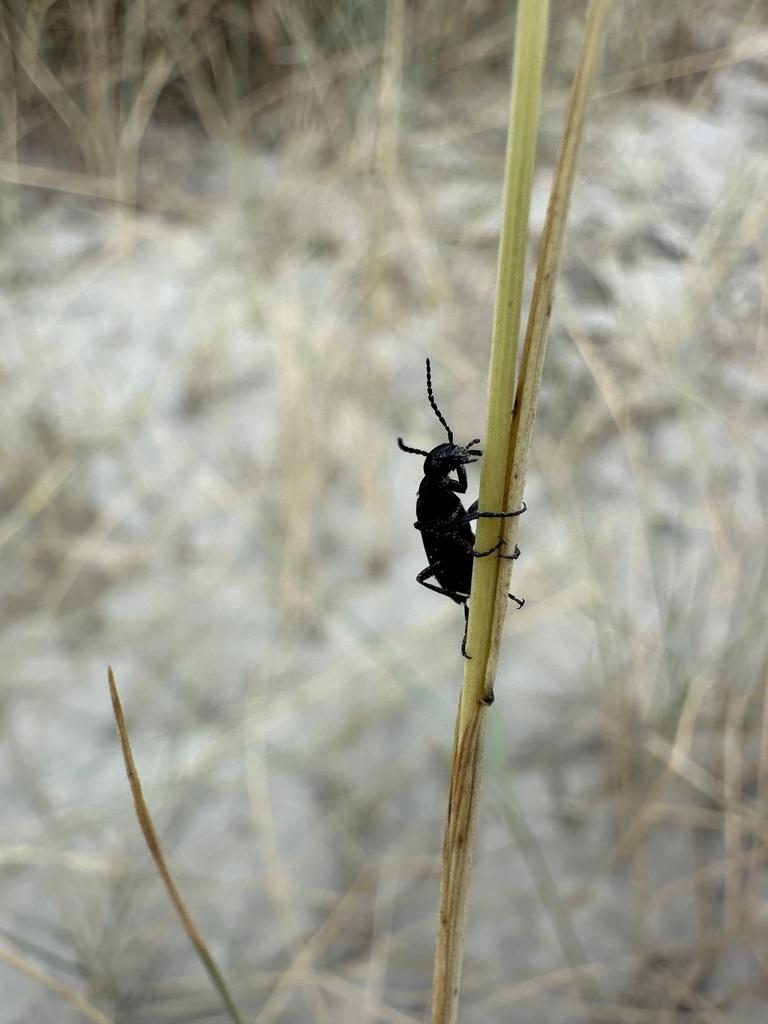blister_beetle: (352, 322, 565, 677)
